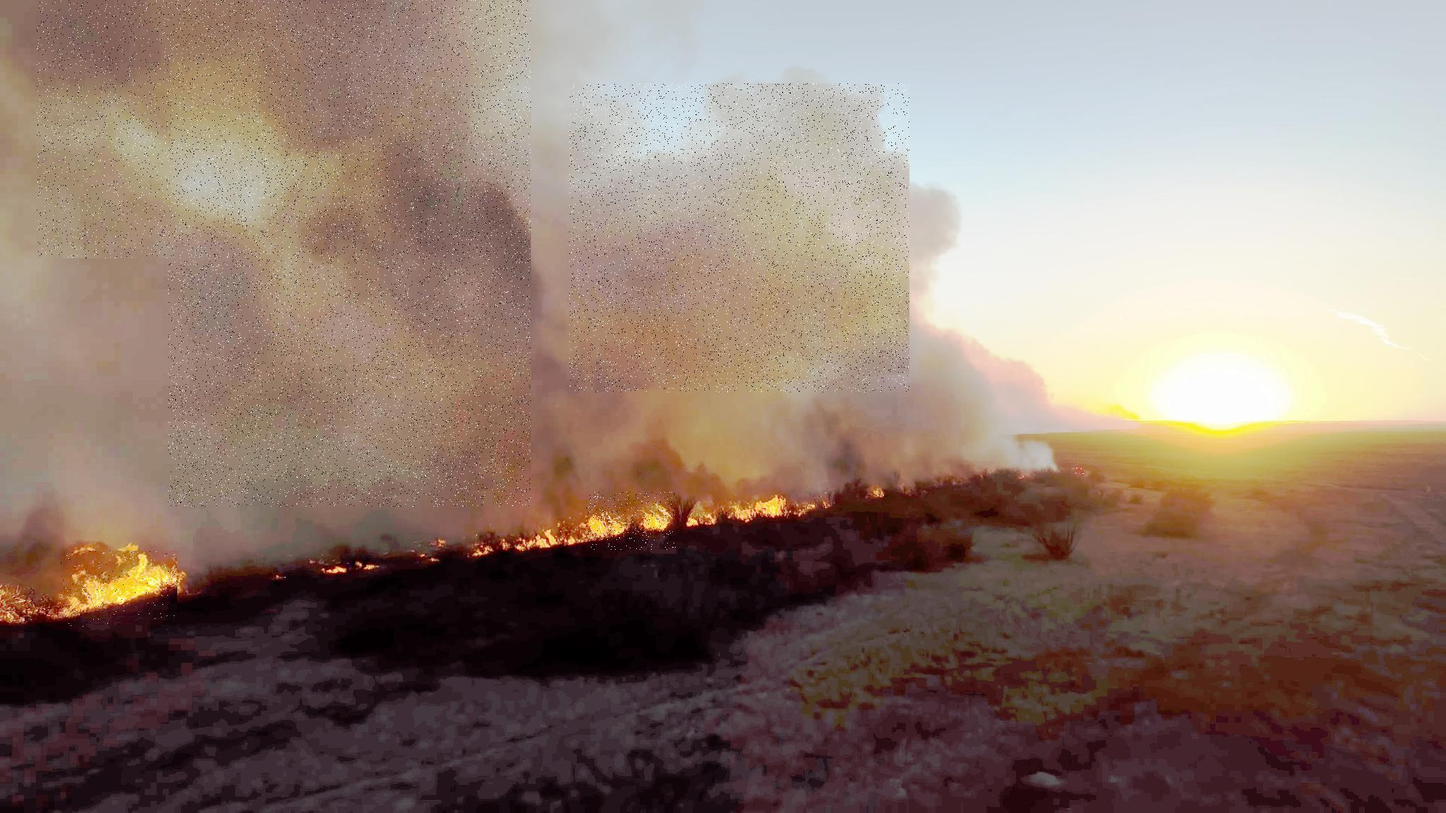fire: (59, 550, 177, 627), (586, 492, 676, 550)
smoke: (168, 0, 531, 507), (37, 0, 529, 258), (569, 83, 909, 392)
